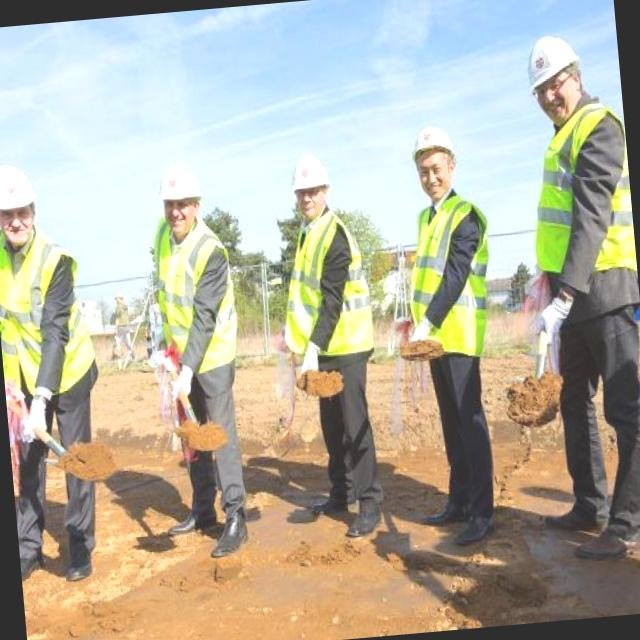boots: (559, 492, 640, 572), (536, 478, 618, 548), (152, 477, 228, 551), (193, 489, 265, 567), (300, 456, 370, 522), (51, 519, 108, 596), (439, 493, 508, 555), (334, 481, 398, 547), (412, 476, 474, 528), (16, 518, 49, 595)
helmet: (513, 22, 597, 108), (400, 114, 469, 184), (143, 154, 212, 216), (277, 146, 346, 208), (0, 152, 46, 225)
vest: (138, 198, 258, 410), (264, 202, 392, 390), (0, 210, 111, 424), (391, 178, 509, 378)
